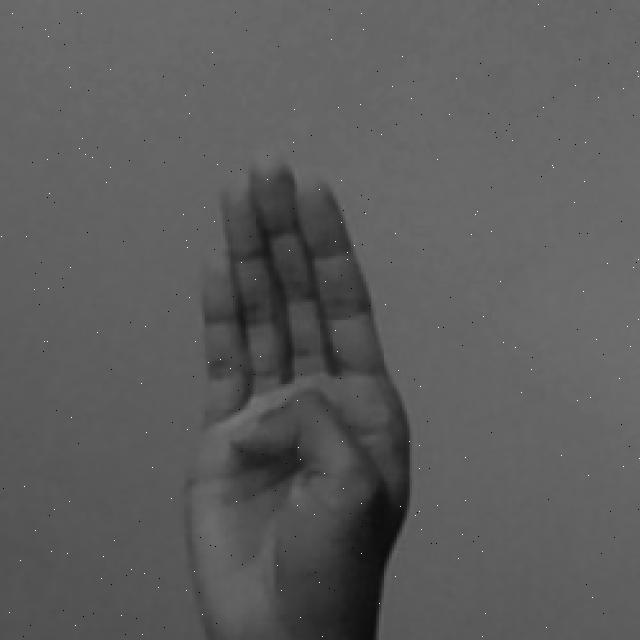B: (182, 151, 417, 640)
